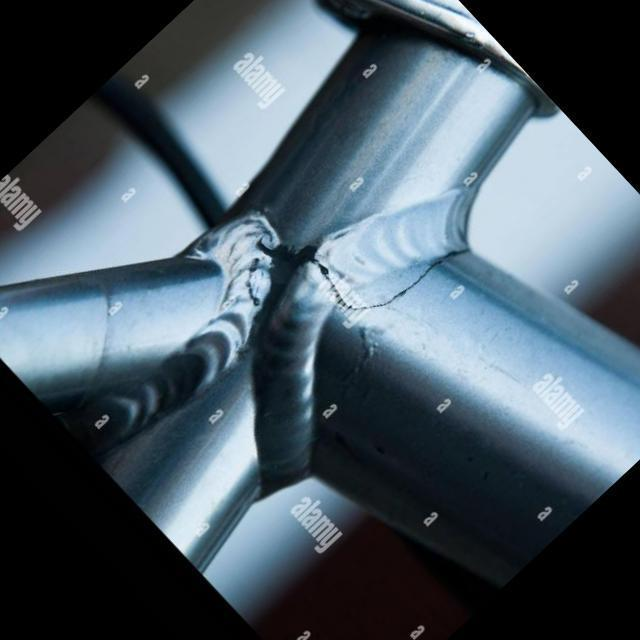defect: (308, 239, 482, 318), (242, 254, 265, 314)
